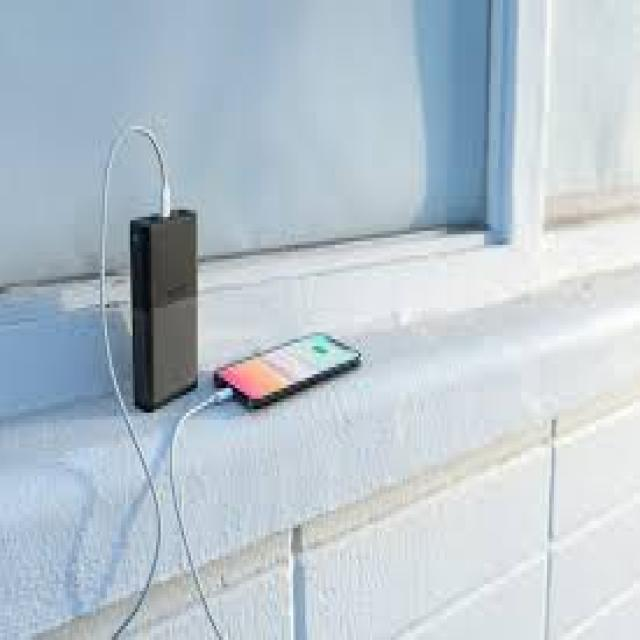portable-charger: (128, 210, 203, 410)
